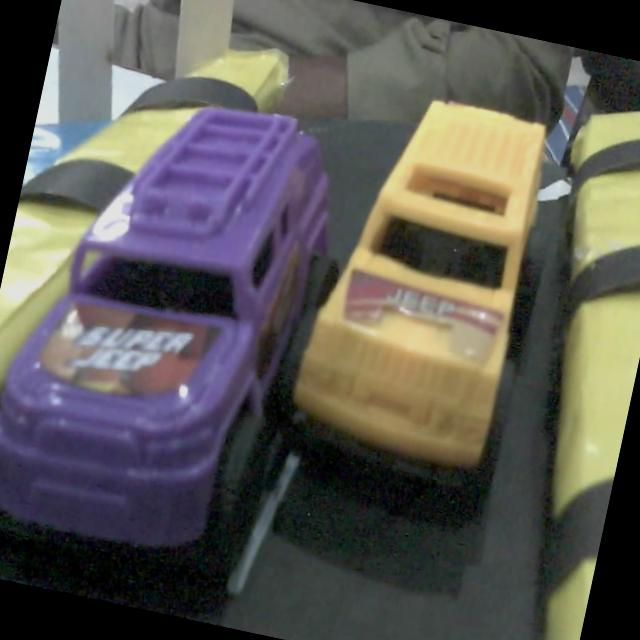TwoCar: (0, 109, 328, 575), (294, 102, 544, 471)
